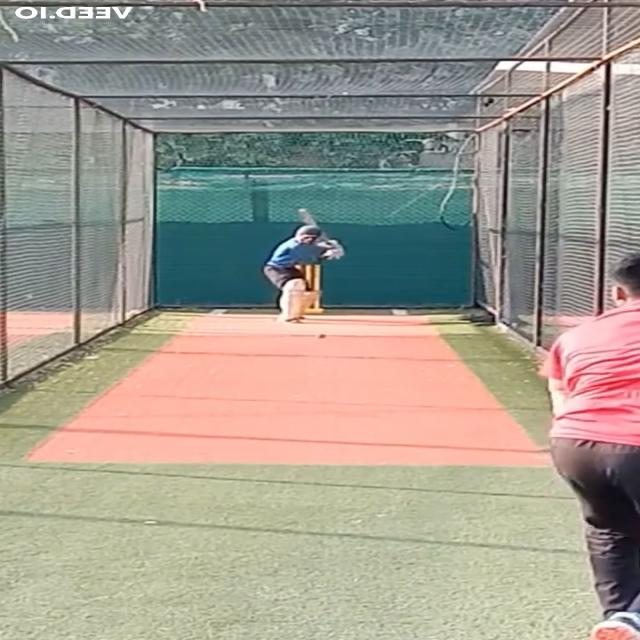ball: (316, 332, 328, 340)
stump: (300, 264, 325, 315)
